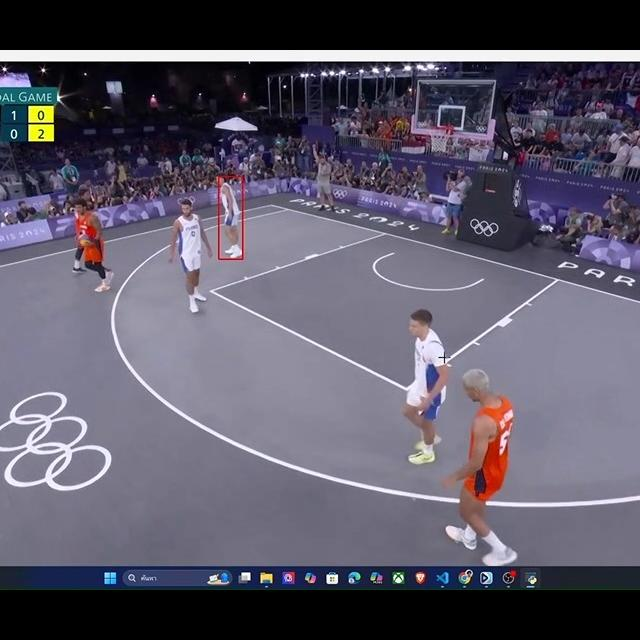basketball: (79, 232, 93, 251)
hoop: (428, 125, 454, 155)
